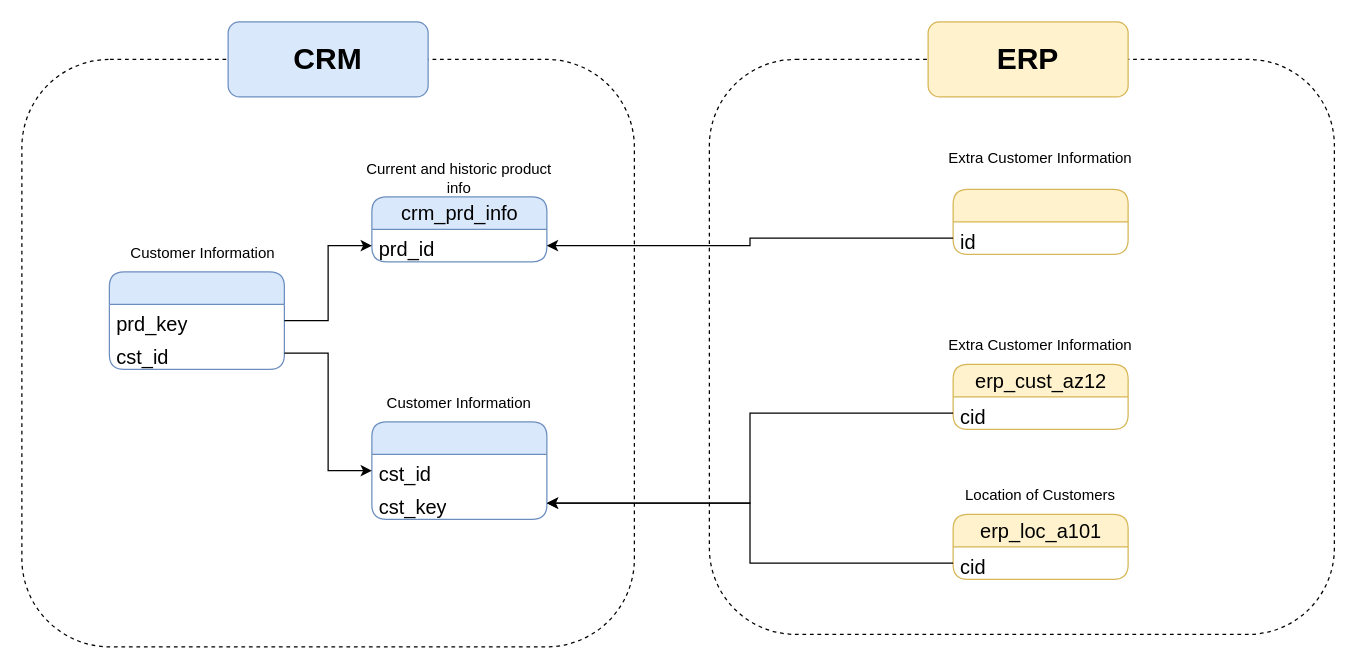
Image size: 1356x669. Some labels were removed from this diagram. Each missing label, with the box of its shape:
crm_cust_info: (371, 421, 547, 519)
crm_sales_details: (108, 271, 284, 369)
erp_px_cat_g1v2: (952, 188, 1128, 254)
